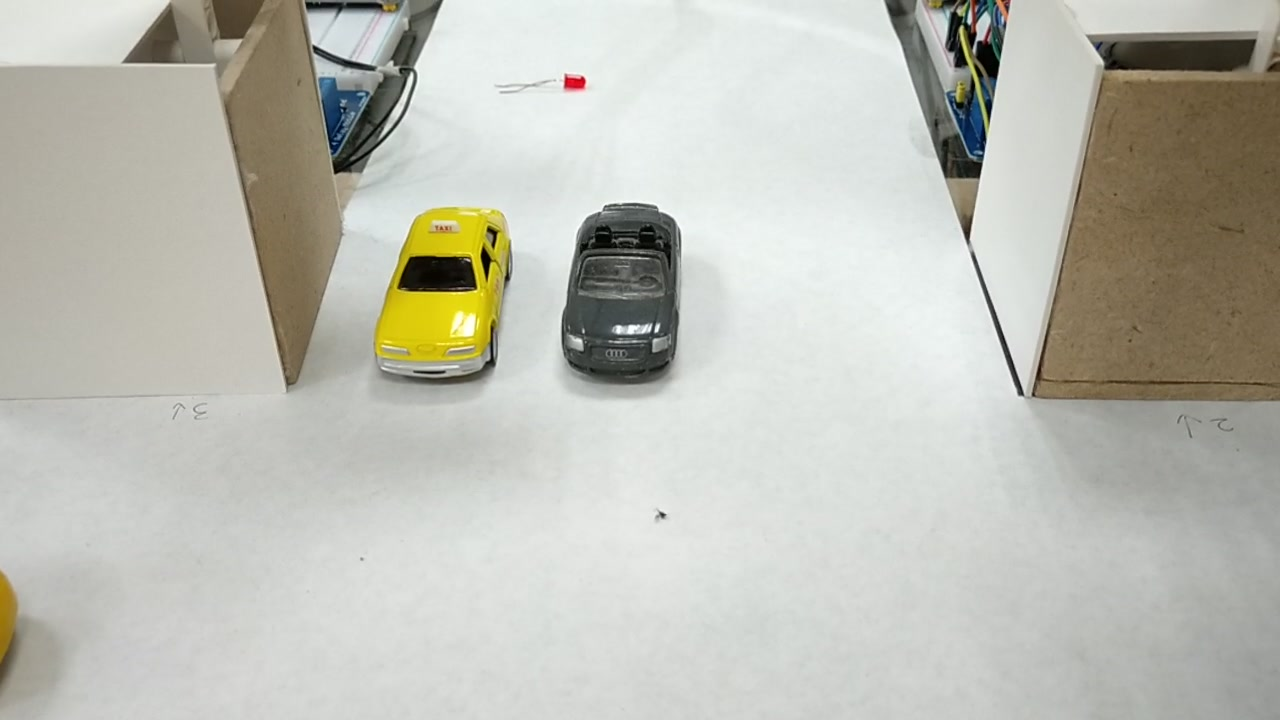car: (369, 207, 506, 382), (559, 200, 677, 372)
